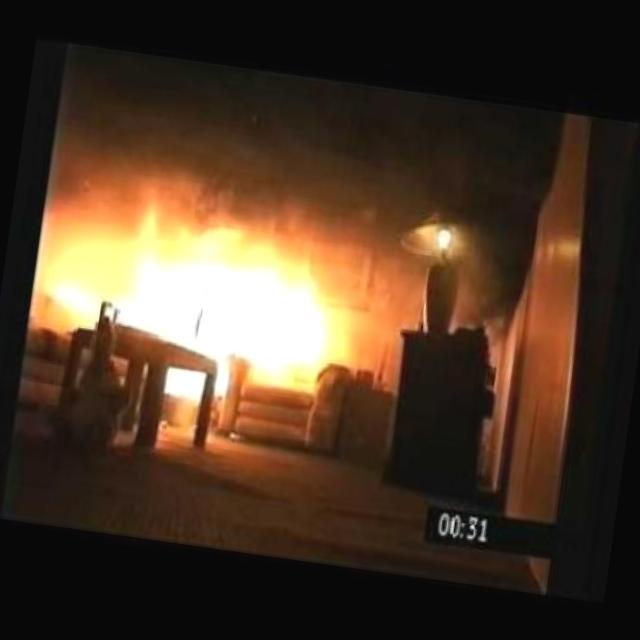fire: (13, 100, 428, 440)
